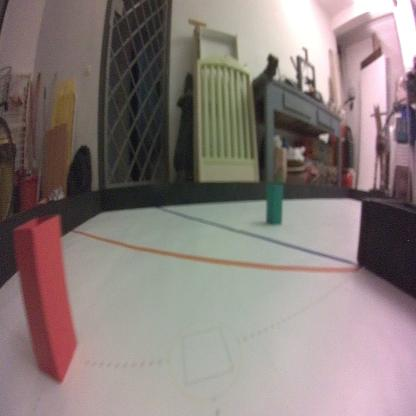green: (264, 184, 283, 228)
red: (11, 213, 78, 386)
